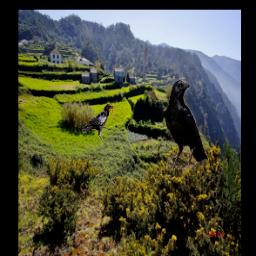Crow: (165, 81, 207, 170), (83, 103, 118, 142)
